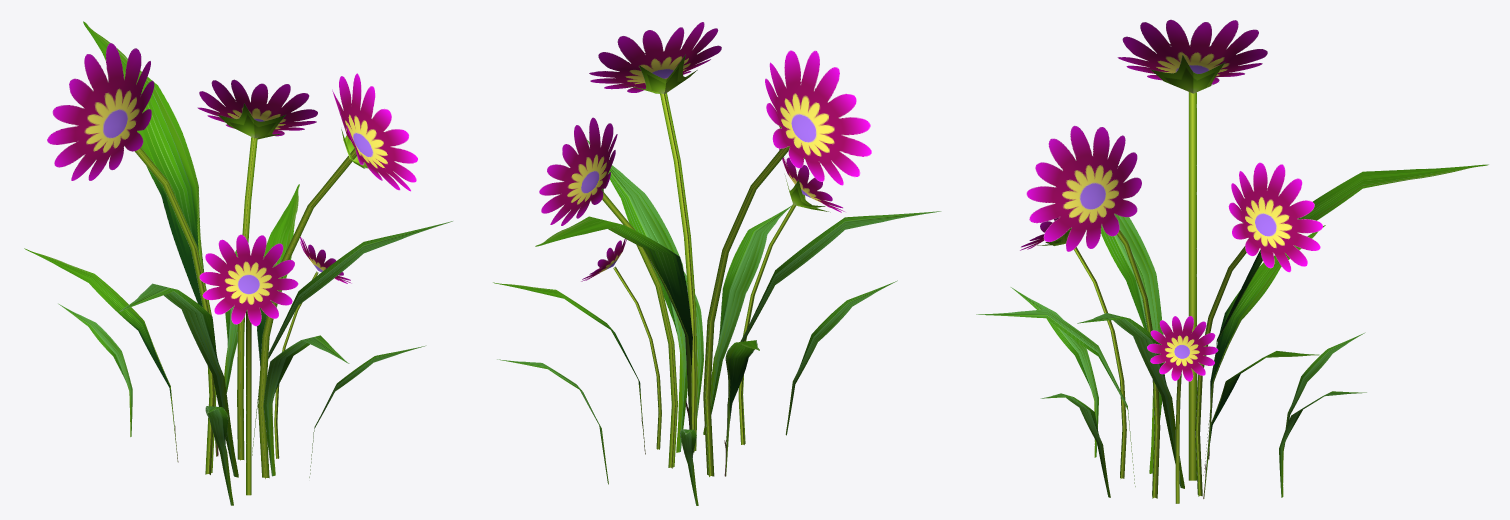
Rendered from Flower_02.FBX.
The picture shows the model from 3 angles, left to right: view 1: azimuth 30°, elevation 25°; view 2: azimuth 150°, elevation 25°; view 3: azimuth 270°, elevation 25°; orthographic projection. The views are drawn at different scales.
Parts seen in each view (by area): view 1: Flower_02; view 2: Flower_02; view 3: Flower_02.
Part boxes in pixels (x1,y1,x2,y2): Flower_02: (24,21,452,505); Flower_02: (493,22,941,505); Flower_02: (976,19,1488,503).
Size of the model in its own units: 45.75 by 52.53 by 56.98.
